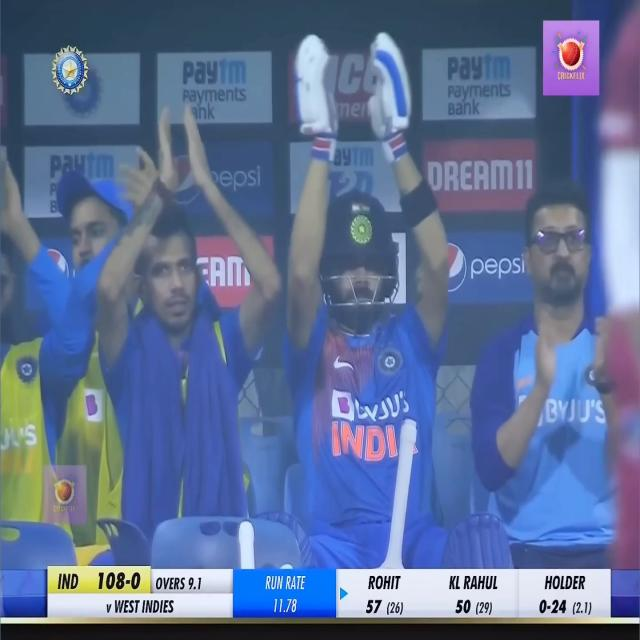fully_visible: (175, 52, 247, 89), (444, 50, 514, 82)
partially_visible: (48, 144, 116, 190), (327, 140, 376, 172)
